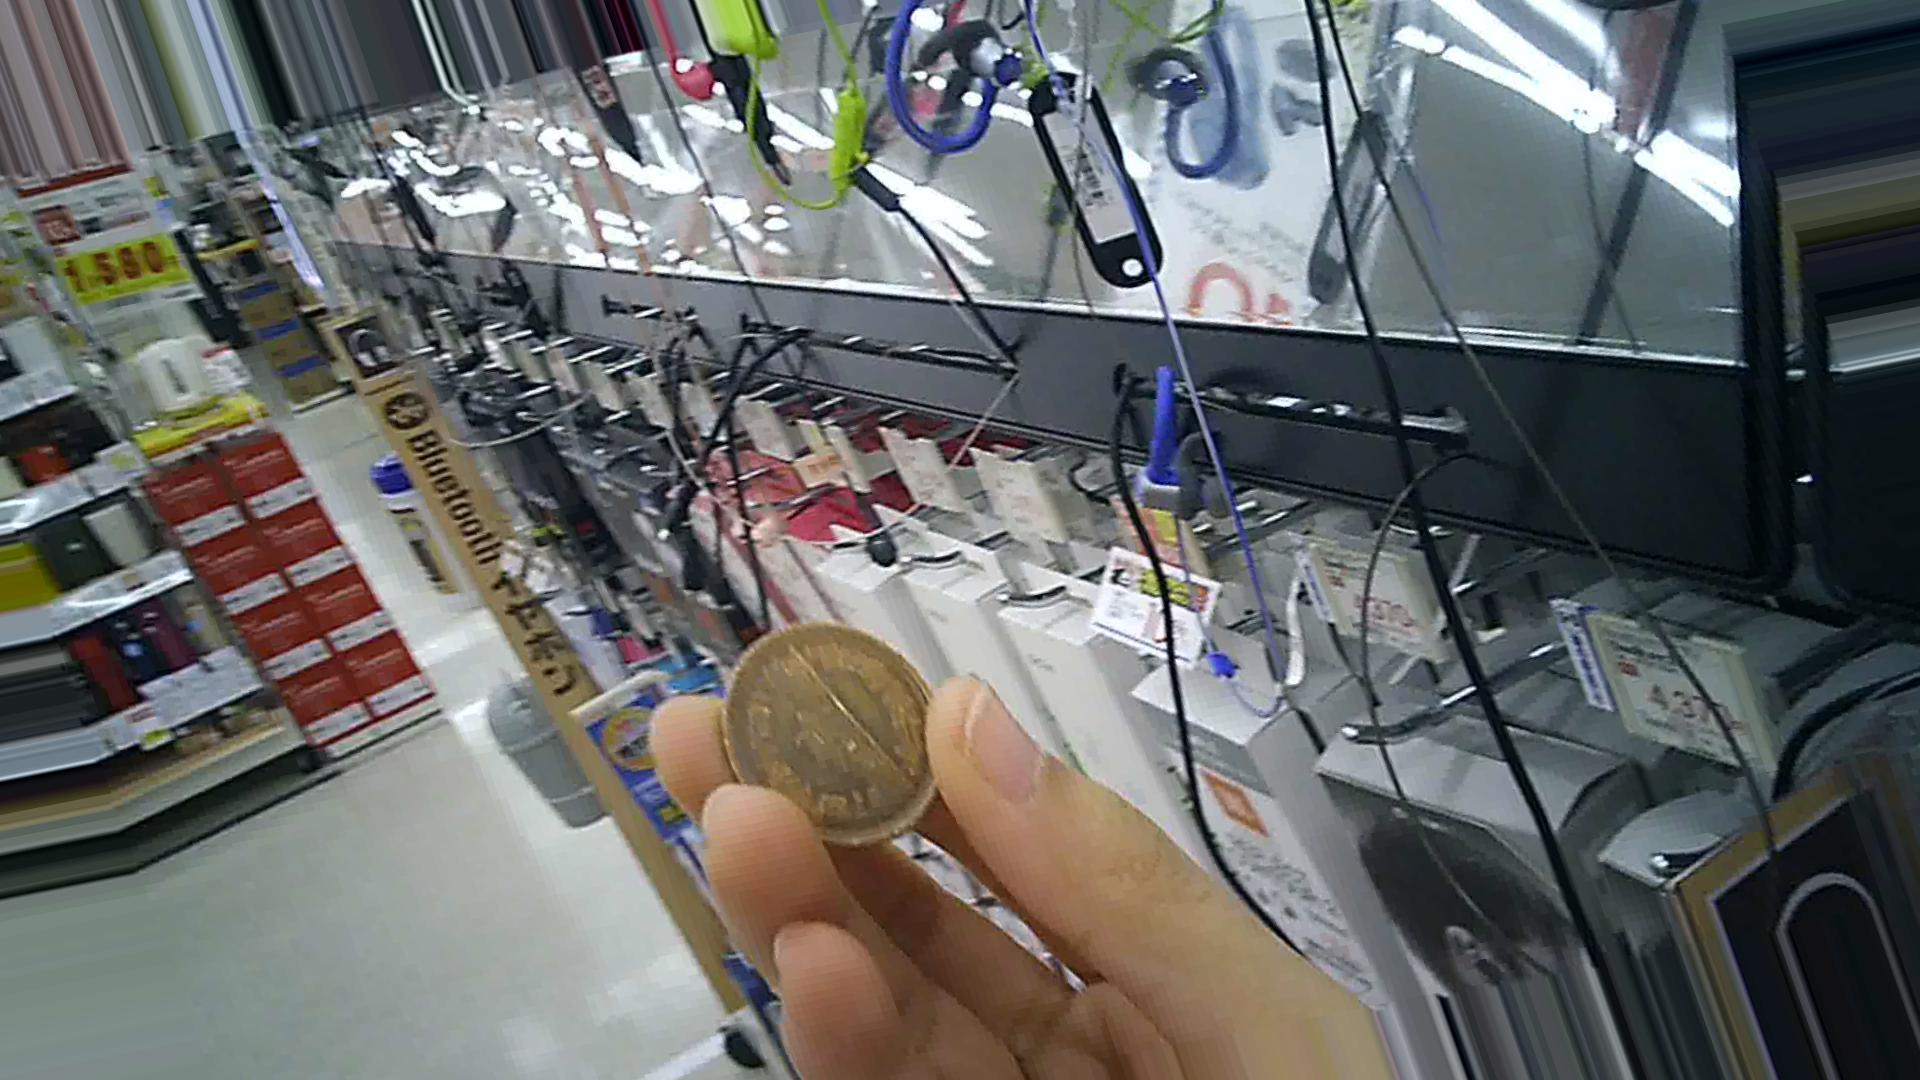10 Yen: (705, 617, 949, 852)
